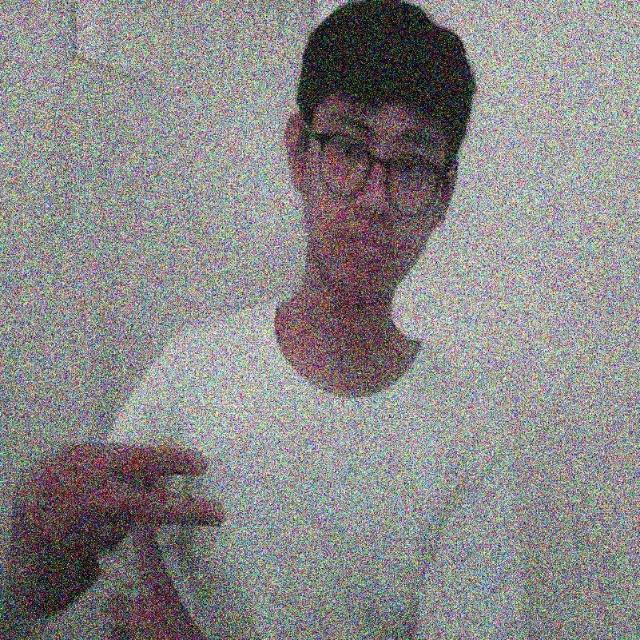F: (35, 424, 254, 640)
